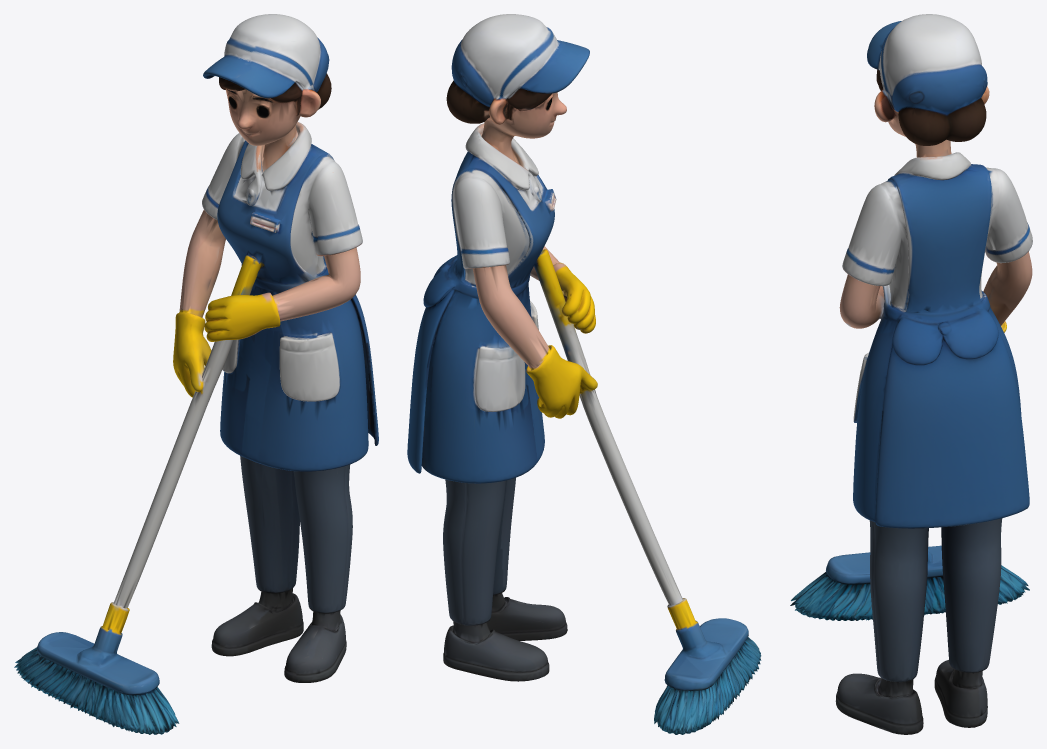
Rendered from woman_clean.glb.
3 renders of one model, left to right at view 1: azimuth 30°, elevation 25°; view 2: azimuth 150°, elevation 25°; view 3: azimuth 270°, elevation 25°, orthographic. The views are drawn at different scales.
Parts seen in each view (by area): view 1: node_0; view 2: node_0; view 3: node_0.
Boxes of the visible parts, x1,y1,x2,y2 form: node_0: (14, 14, 378, 734); node_0: (407, 14, 761, 734); node_0: (790, 14, 1032, 734).
Bounding box in the file's own units: 0.55 × 1.06 × 0.3432.
Materials: 1 (1 with a texture image).
